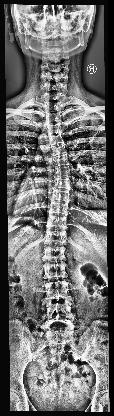Vertebrae: (42, 318, 74, 338), (45, 300, 75, 320), (45, 282, 74, 298), (43, 262, 68, 280), (44, 247, 68, 262), (48, 230, 68, 245), (51, 188, 71, 202), (50, 202, 70, 216), (49, 216, 69, 230), (48, 135, 66, 147), (54, 178, 72, 190), (50, 144, 69, 154), (54, 168, 72, 178), (46, 124, 62, 134), (54, 156, 70, 166)
